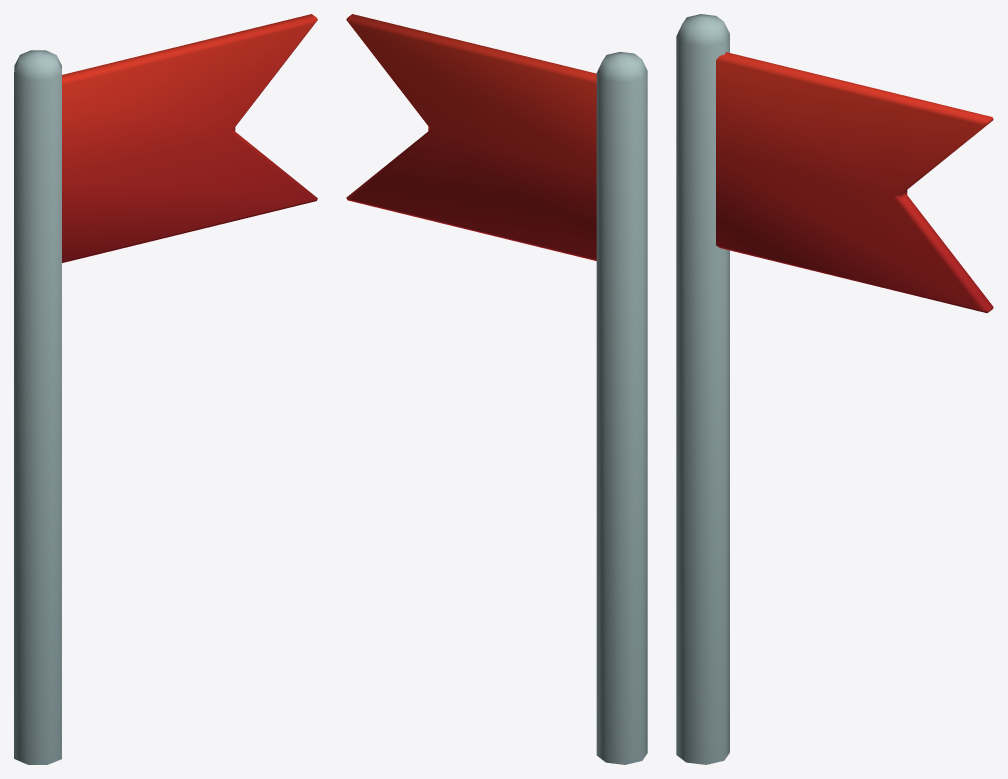
File: checkpoint.fbx
The picture shows the model from 3 angles, left to right: view 1: azimuth 30°, elevation 25°; view 2: azimuth 150°, elevation 25°; view 3: azimuth 330°, elevation 25°; orthographic projection. The views are drawn at different scales.
Parts seen in each view (by area): view 1: checkpoint; view 2: checkpoint; view 3: checkpoint.
Boxes of the visible parts, x1,y1,x2,y2 form: checkpoint: (14,14,317,764); checkpoint: (346,14,647,764); checkpoint: (676,14,993,764).
Bounding box in the file's own units: 0.6968 × 1.57 × 0.1035.
1 material, 1 textured.
